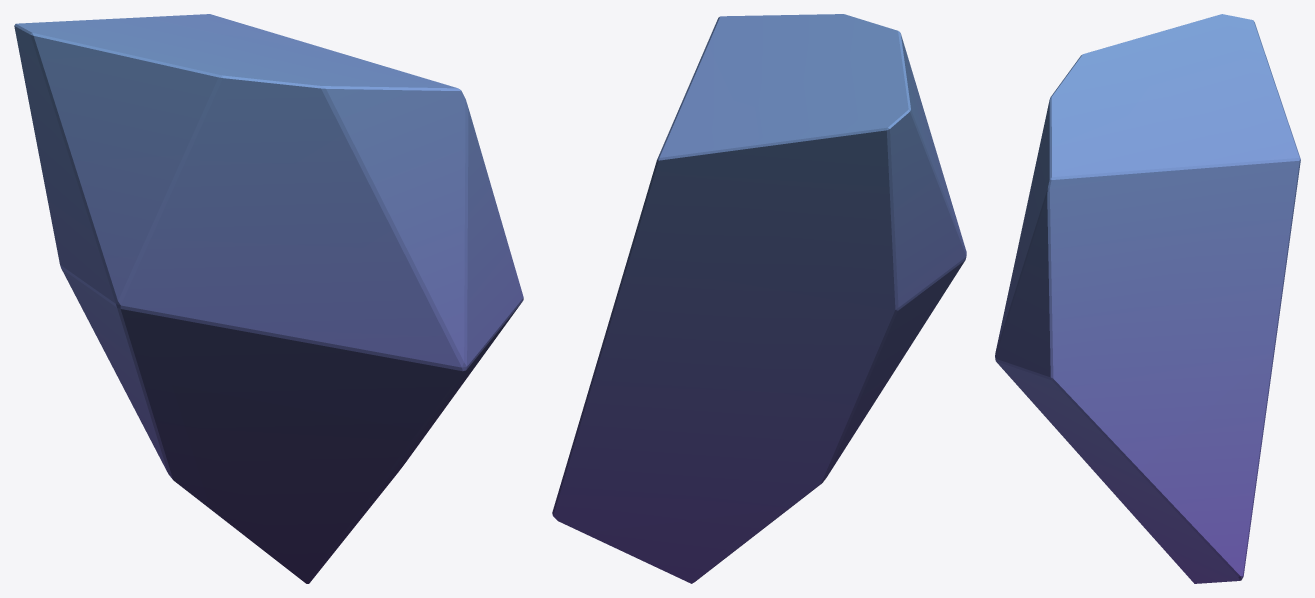
Rendered from cristal_estilhaco_8.fbx.
The picture shows the model from 3 angles, left to right: view 1: azimuth 30°, elevation 25°; view 2: azimuth 150°, elevation 25°; view 3: azimuth 270°, elevation 25°; orthographic projection. The views are drawn at different scales.
Parts seen in each view (by area): view 1: cristal_estilhaco_8; view 2: cristal_estilhaco_8; view 3: cristal_estilhaco_8.
Boxes of the visible parts, bbox=[...] form: cristal_estilhaco_8: bbox=[14, 14, 523, 583]; cristal_estilhaco_8: bbox=[552, 14, 966, 583]; cristal_estilhaco_8: bbox=[995, 14, 1300, 583].
Size of the model in its own units: 3.78 by 5.64 by 3.32.
